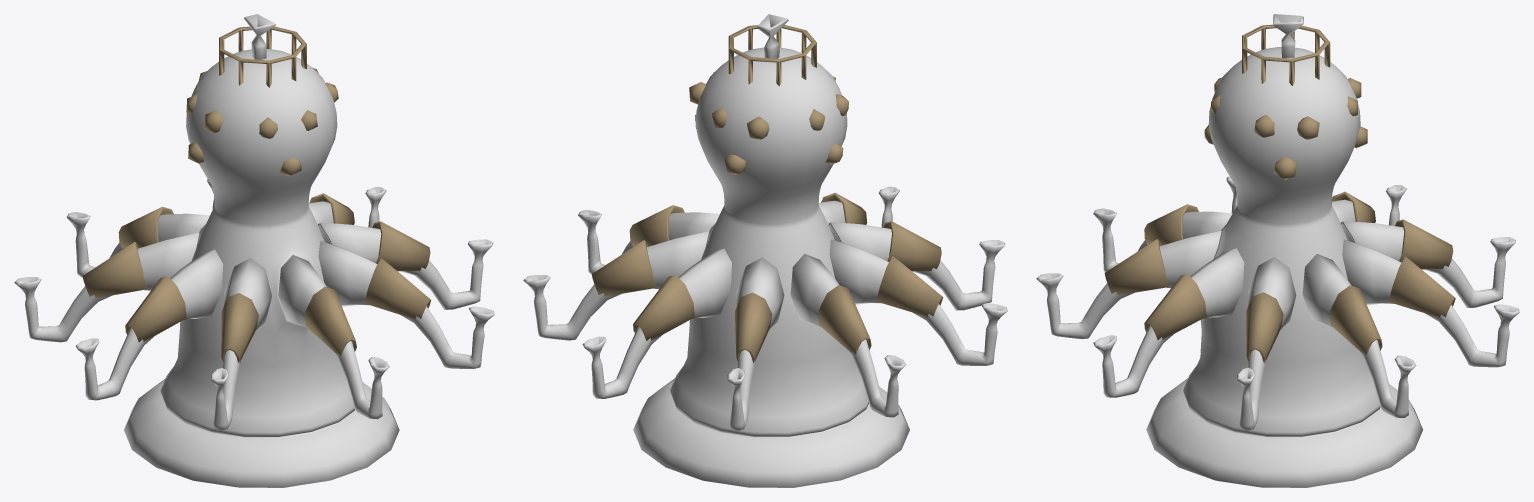
Rendered from ahtapot.fbx.
The picture shows the model from 3 angles, left to right: view 1: azimuth 30°, elevation 25°; view 2: azimuth 150°, elevation 25°; view 3: azimuth 270°, elevation 25°; orthographic projection.
Parts seen in each view (by area): view 1: Icosphere.011; view 2: Icosphere.011; view 3: Icosphere.011.
Boxes of the visible parts, x1,y1,x2,y2 form: Icosphere.011: (14,14,494,487); Icosphere.011: (523,14,1007,487); Icosphere.011: (1036,14,1519,487).
Size of the model in its own units: 352 by 332 by 349.
